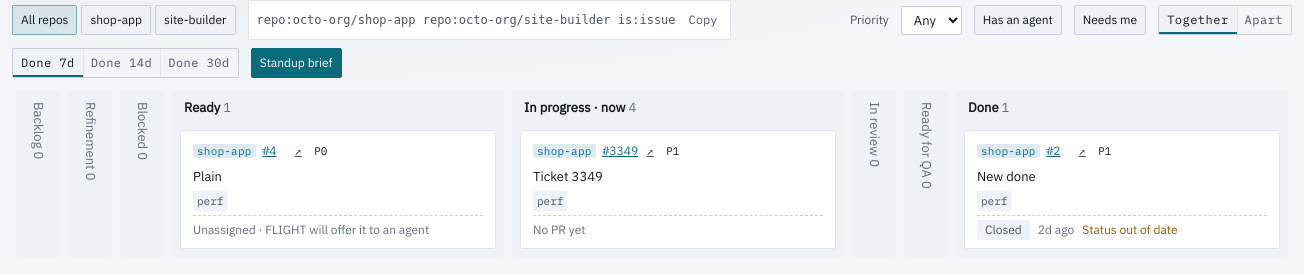
Test: filters › Priority lists the distinct priorities and filters
Check: the element showing "Backlog 0" is shown, box [16,90,60,257]
Check: the link "Plain" is shown, box [193,168,222,185]
Select "P0" in the dropdown labelled "Priority" at [931, 20], box [901,6,962,34]
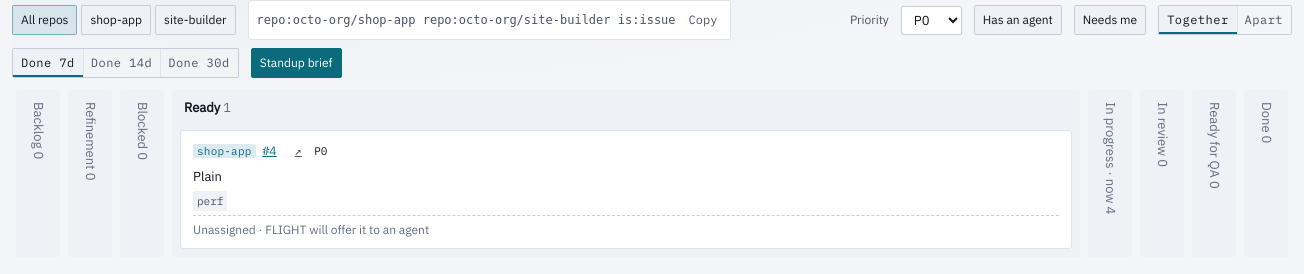
Check: the link "Plain" is shown, box [193,168,222,185]
Check: the link "Ticket 3349" is gone
